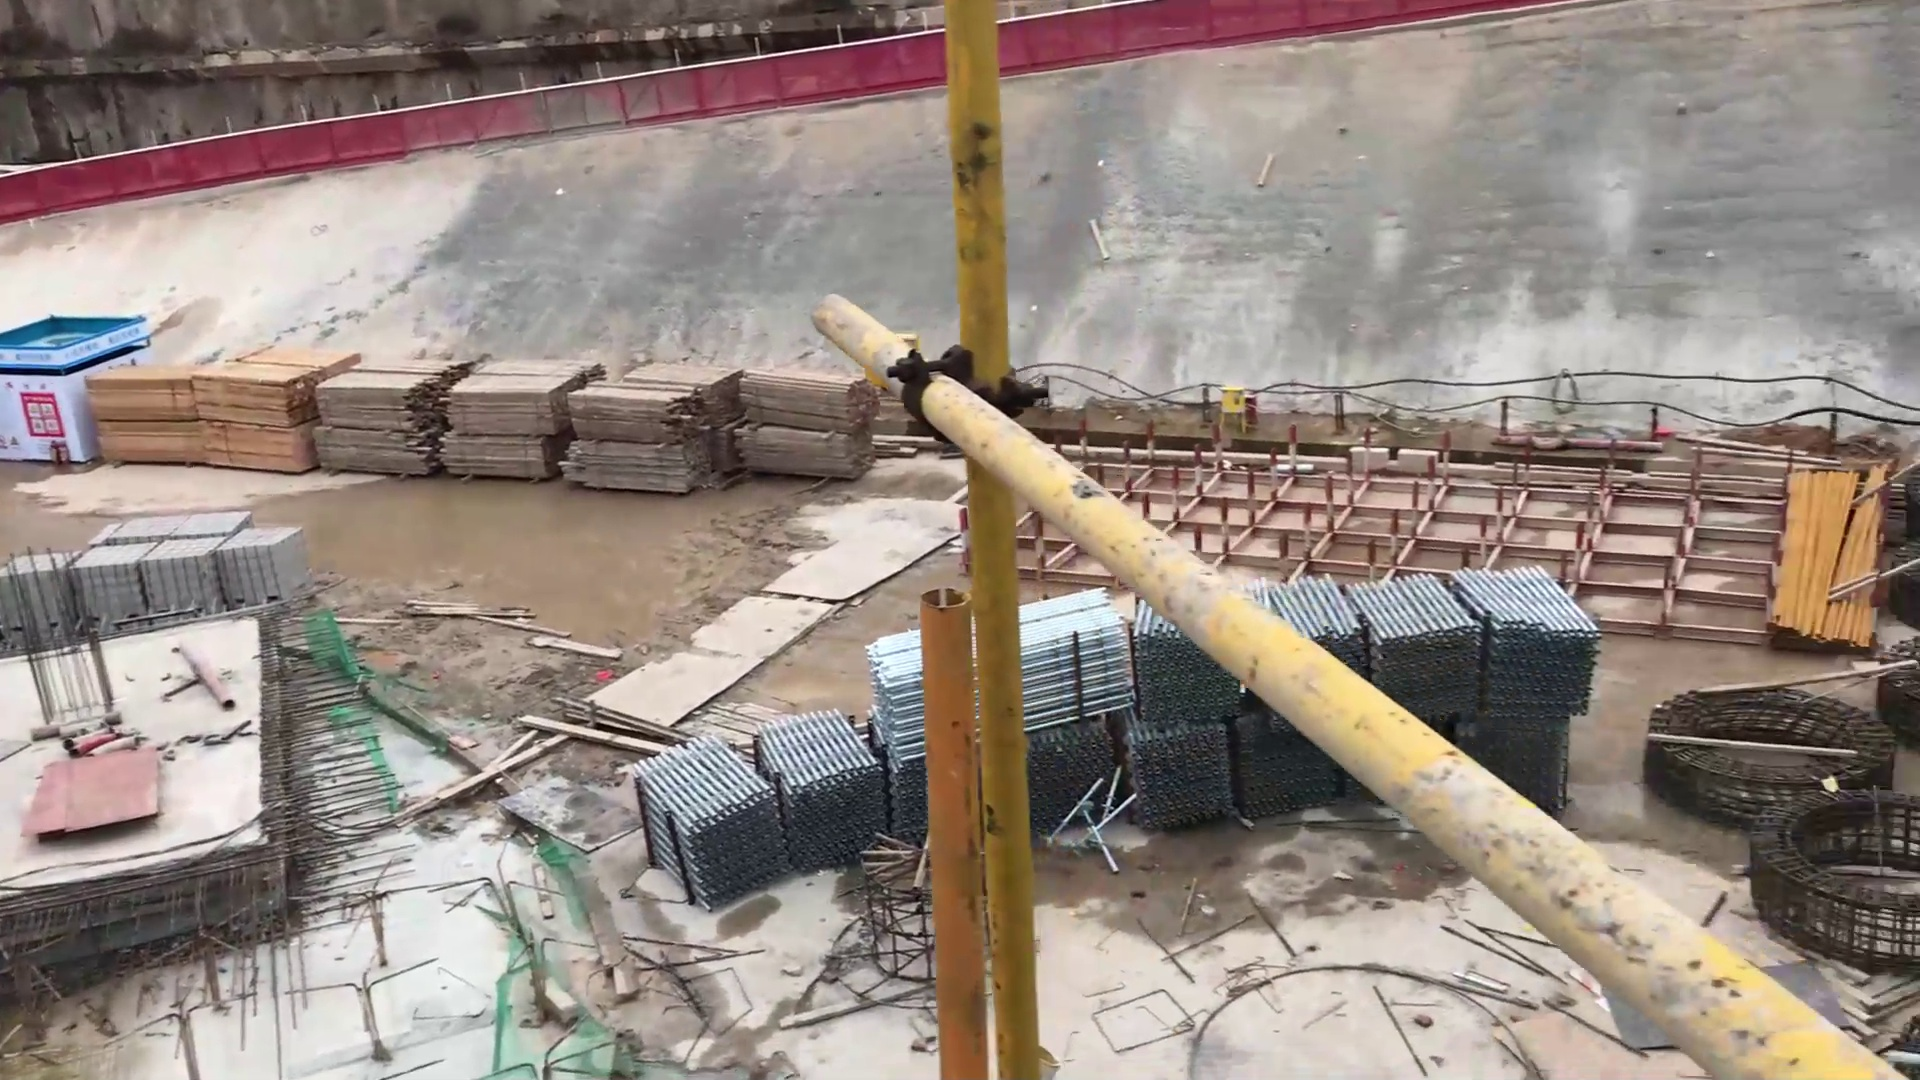board: (15, 741, 170, 868)
brick: (218, 520, 314, 613), (144, 535, 237, 622), (3, 542, 83, 640), (73, 542, 156, 629), (86, 506, 258, 545)
ebox: (1217, 386, 1251, 439)
fence: (592, 42, 868, 132)
scaffold: (1007, 601, 1222, 849), (629, 738, 795, 913), (1462, 553, 1607, 727), (752, 705, 893, 878), (1346, 564, 1491, 711)
wood: (91, 342, 340, 483), (582, 349, 756, 500), (738, 353, 887, 516), (444, 353, 593, 487), (306, 356, 459, 473)
